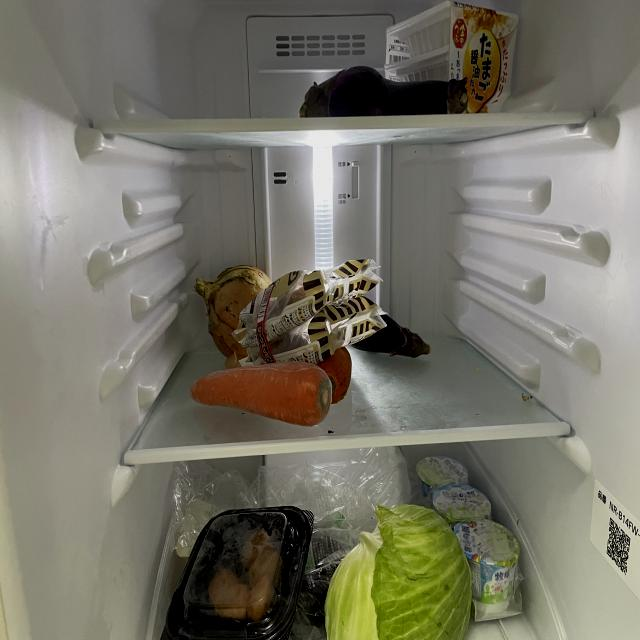cabbage: (325, 503, 474, 640)
carrot: (193, 364, 336, 428), (322, 352, 354, 407)
eggplant: (303, 65, 391, 117), (349, 313, 433, 359), (382, 79, 468, 117)
onion: (200, 266, 280, 360)
